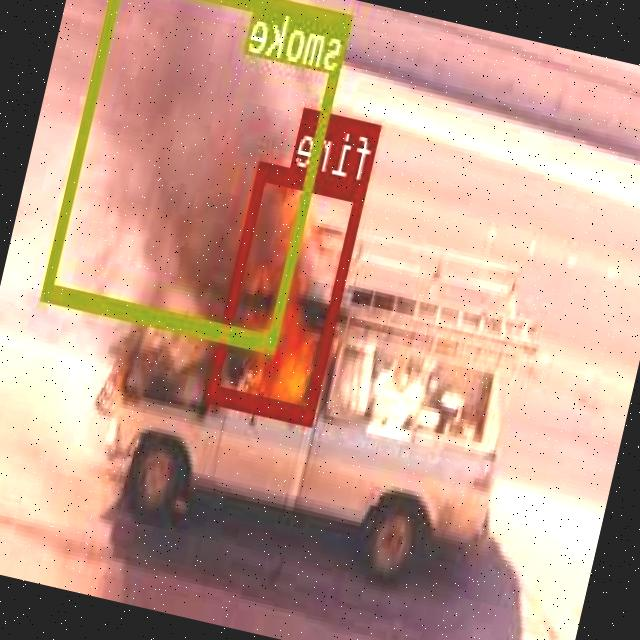fire: (208, 160, 369, 420)
smoke: (43, 0, 354, 351)
